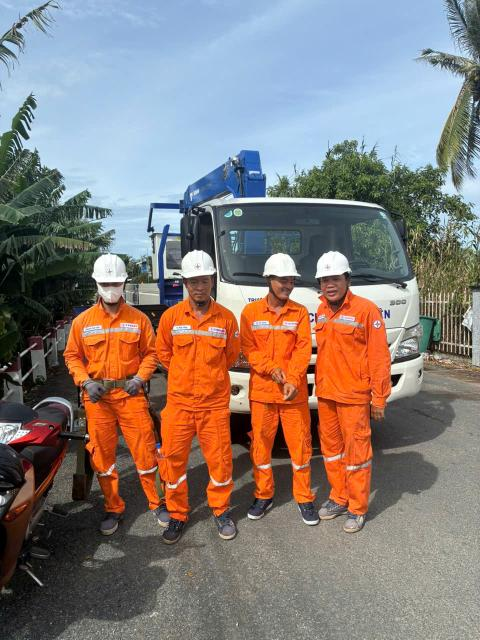gloves: (82, 374, 108, 403), (128, 376, 150, 398)
harness: (78, 366, 144, 398)
helmet: (90, 248, 143, 288), (308, 251, 357, 283), (170, 252, 222, 281), (268, 251, 304, 283)
shoes: (203, 508, 239, 544), (156, 508, 190, 545), (93, 503, 125, 538), (288, 495, 320, 530), (241, 489, 272, 523), (320, 486, 348, 522), (339, 508, 370, 535), (151, 500, 175, 526)
